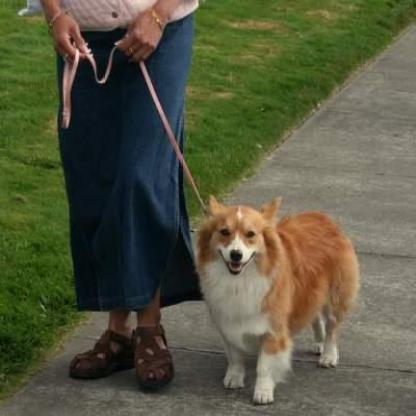Pembroke: (191, 188, 359, 405)
